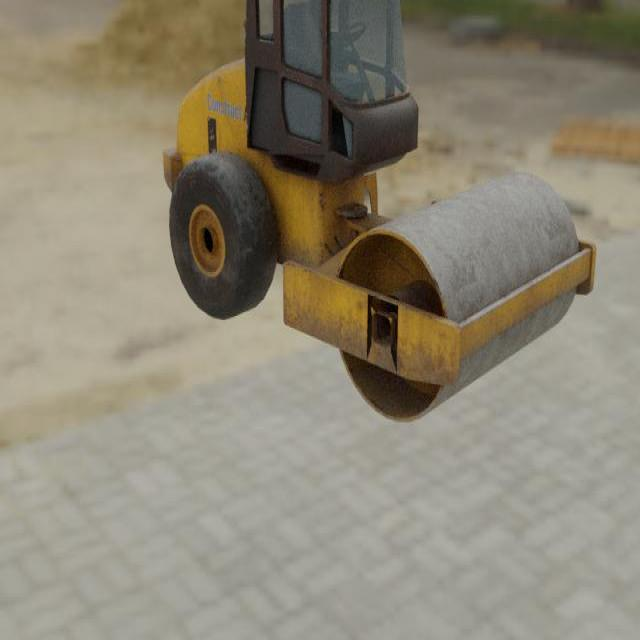Roller: (162, 0, 597, 424)
